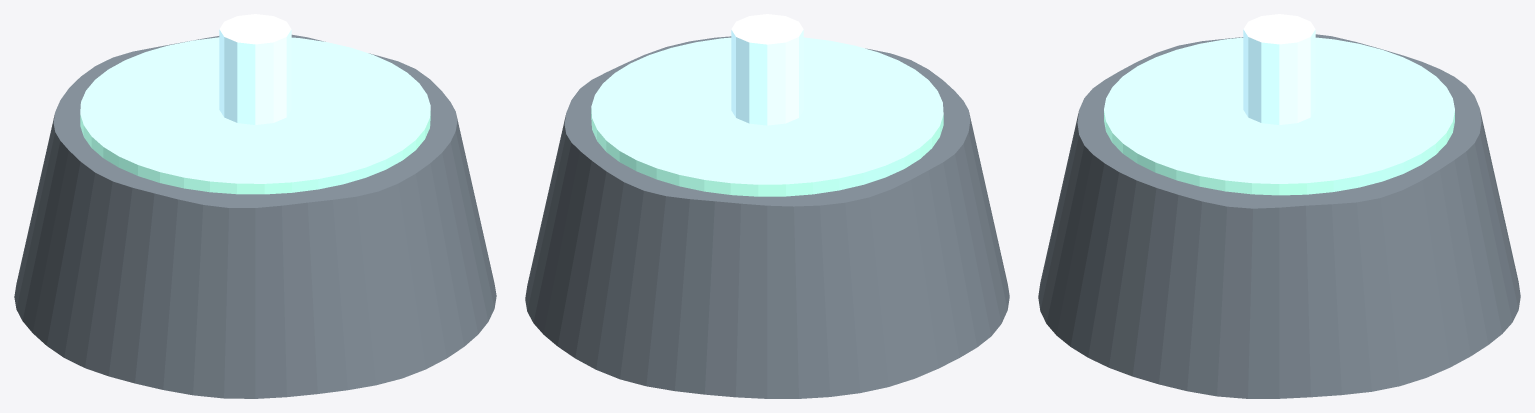
3 views of the same model, side by side, from view 1: azimuth 30°, elevation 25°; view 2: azimuth 150°, elevation 25°; view 3: azimuth 270°, elevation 25° (orthographic).
Parts seen in each view (by area): view 1: floating_island, playable_plateau, control_spire; view 2: floating_island, playable_plateau, control_spire; view 3: floating_island, playable_plateau, control_spire.
Part boxes in pixels (x1,y1,x2,y2): floating_island: (14,34,496,398); playable_plateau: (80,37,430,194); control_spire: (219,14,291,124); floating_island: (525,36,1009,398); playable_plateau: (591,37,943,196); control_spire: (731,14,803,125); floating_island: (1038,34,1520,398); playable_plateau: (1104,37,1454,195); control_spire: (1243,14,1315,124).
Size of the model in its own units: 20.06 by 12.33 by 20.06.
